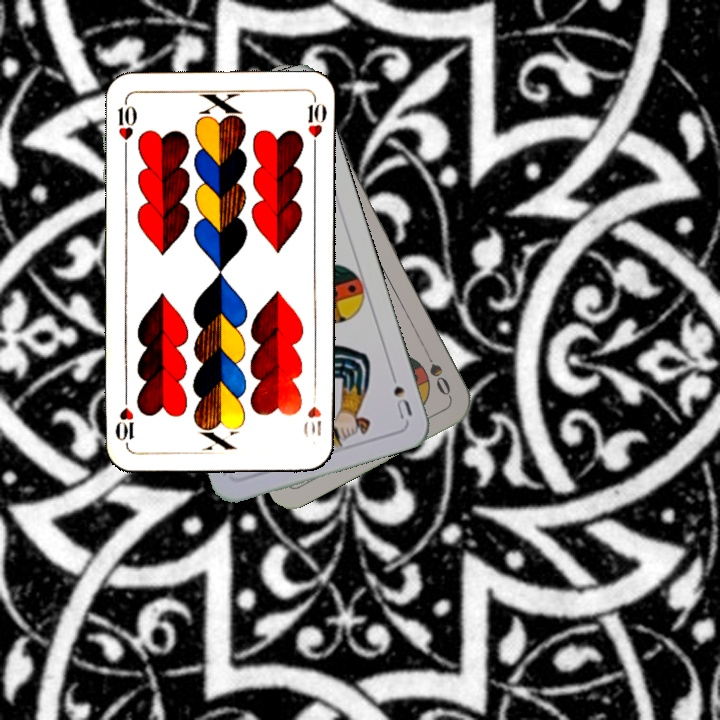H10: (114, 96, 140, 155), (299, 387, 324, 440)
SO: (420, 344, 454, 399)
SU: (385, 365, 415, 422)
